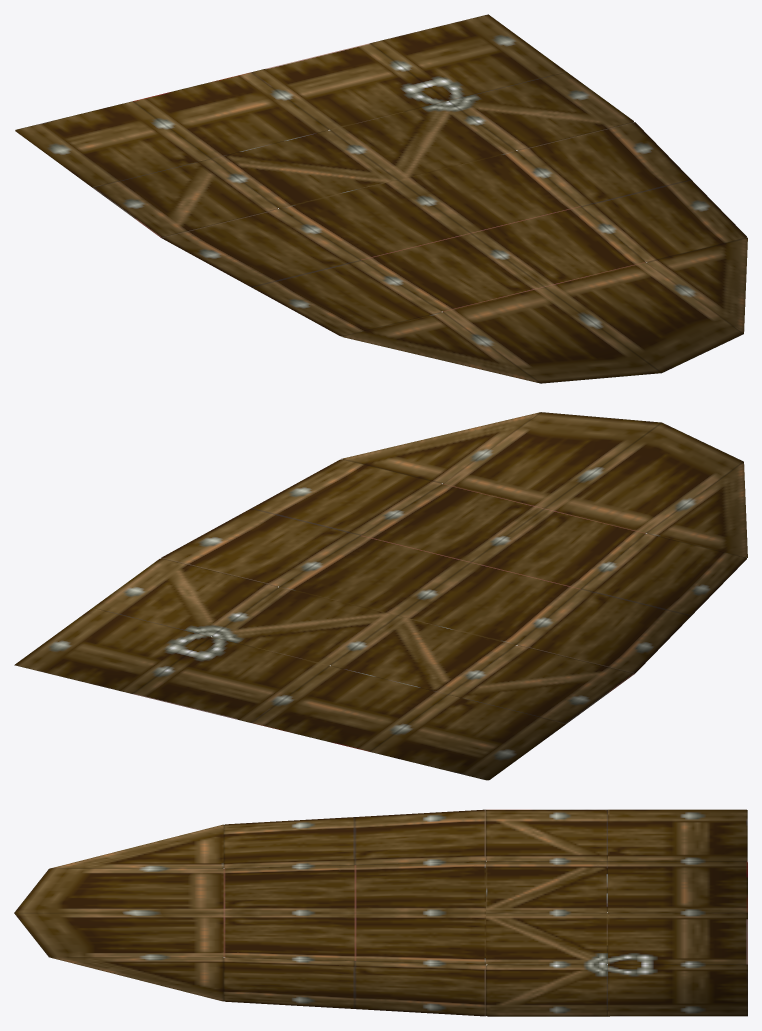
The picture shows the model from 3 angles, top to bottom: view 1: azimuth 30°, elevation 25°; view 2: azimuth 150°, elevation 25°; view 3: azimuth 270°, elevation 25°; orthographic projection. The views are drawn at different scales.
Visible parts, largest first — view 1: T1L6M009_4; view 2: T1L6M009_4; view 3: T1L6M009_4.
Boxes of the visible parts, x1,y1,x2,y2 form: T1L6M009_4: [15, 14, 747, 383]; T1L6M009_4: [14, 412, 747, 780]; T1L6M009_4: [14, 809, 747, 1016].
Bounding box in the file's own units: 2.8 × 0.000977 × 4.2.
